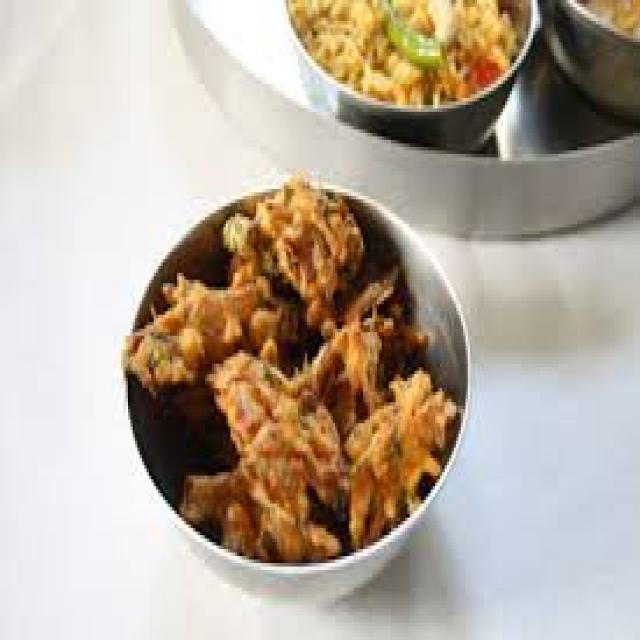BAJI: (130, 189, 463, 548)
